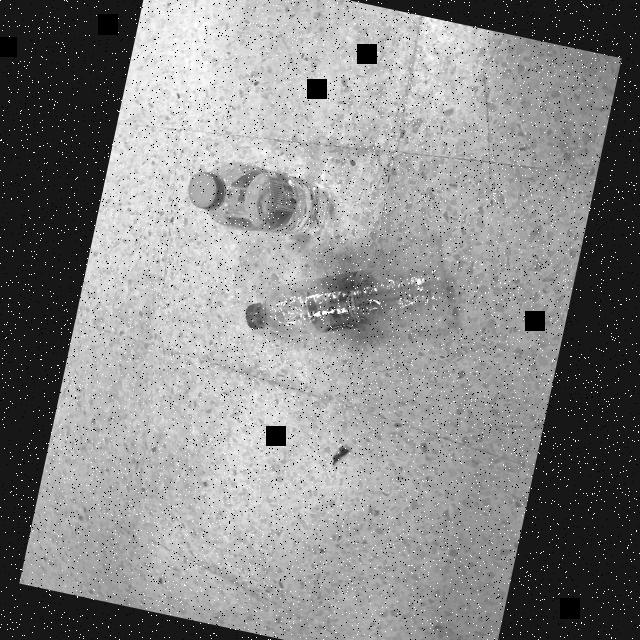plastic_bottle: (242, 230, 458, 370), (182, 150, 336, 247)
plastic_bottle_cap: (185, 167, 229, 210)
straw: (349, 259, 450, 325)
